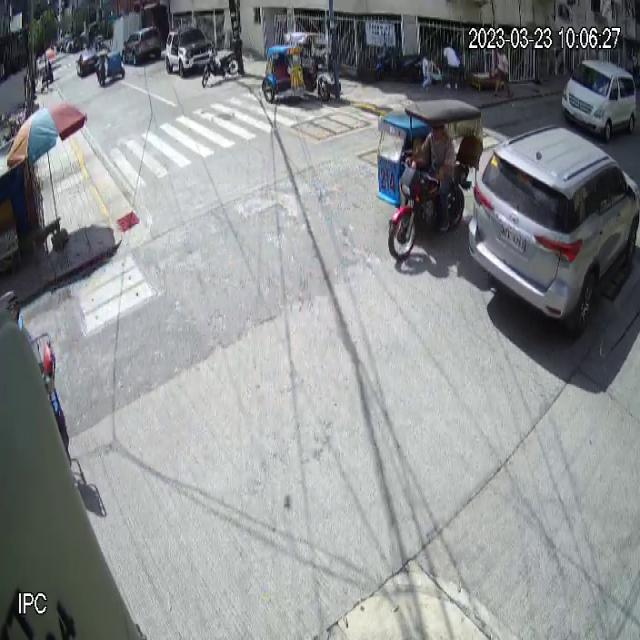Car: (468, 119, 640, 336)
Tricycle: (376, 96, 485, 265), (262, 32, 332, 104)
Van: (561, 59, 637, 141)
